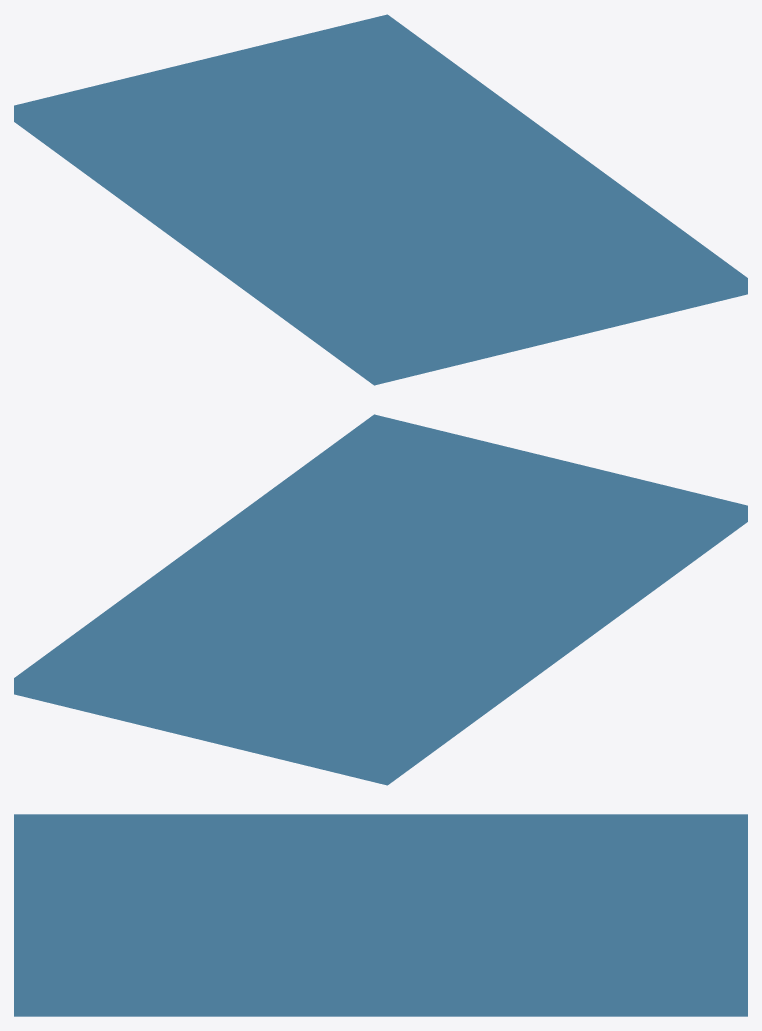
The picture shows the model from 3 angles, top to bottom: view 1: azimuth 30°, elevation 25°; view 2: azimuth 150°, elevation 25°; view 3: azimuth 270°, elevation 25°; orthographic projection.
Bounding box in the file's own units: 1465 × 60.9 × 2445.
1 material, 1 textured.
